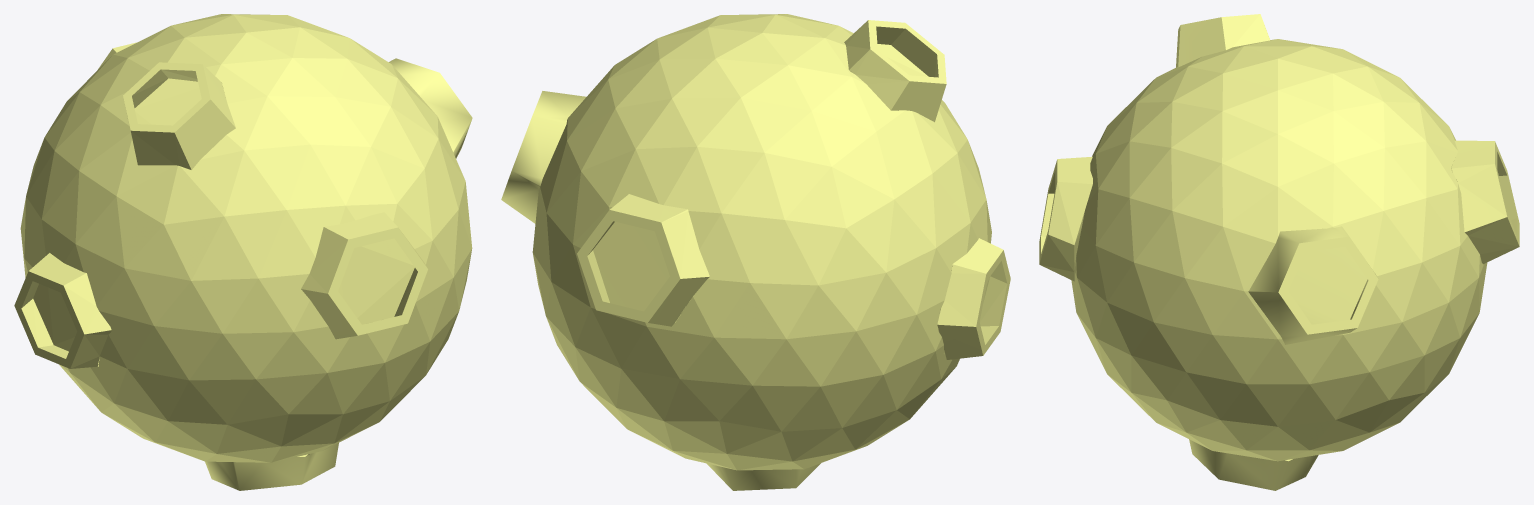
File: Planet (2).fbx
3 views of the same model, side by side, from view 1: azimuth 30°, elevation 25°; view 2: azimuth 150°, elevation 25°; view 3: azimuth 270°, elevation 25° (orthographic). The views are drawn at different scales.
Visible parts, largest first — view 1: GeoSphere001; view 2: GeoSphere001; view 3: GeoSphere001.
Boxes of the visible parts, <box> form: GeoSphere001: <box>14,14,472,490</box>; GeoSphere001: <box>501,14,1010,490</box>; GeoSphere001: <box>1039,14,1519,490</box>.
Bounding box in the file's own units: 4201 × 4007 × 4154.
